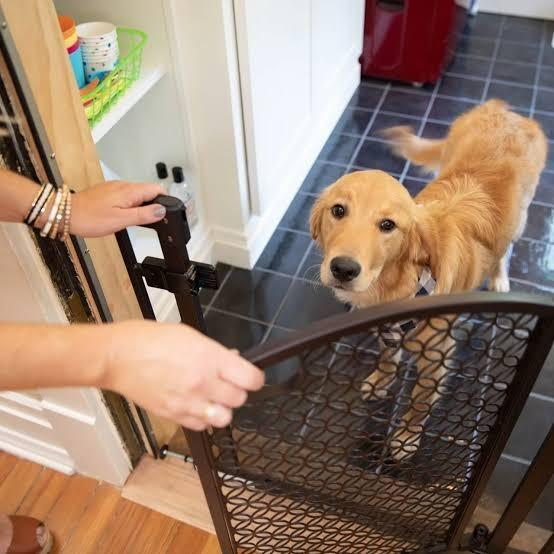adult_dog: (306, 95, 546, 463)
